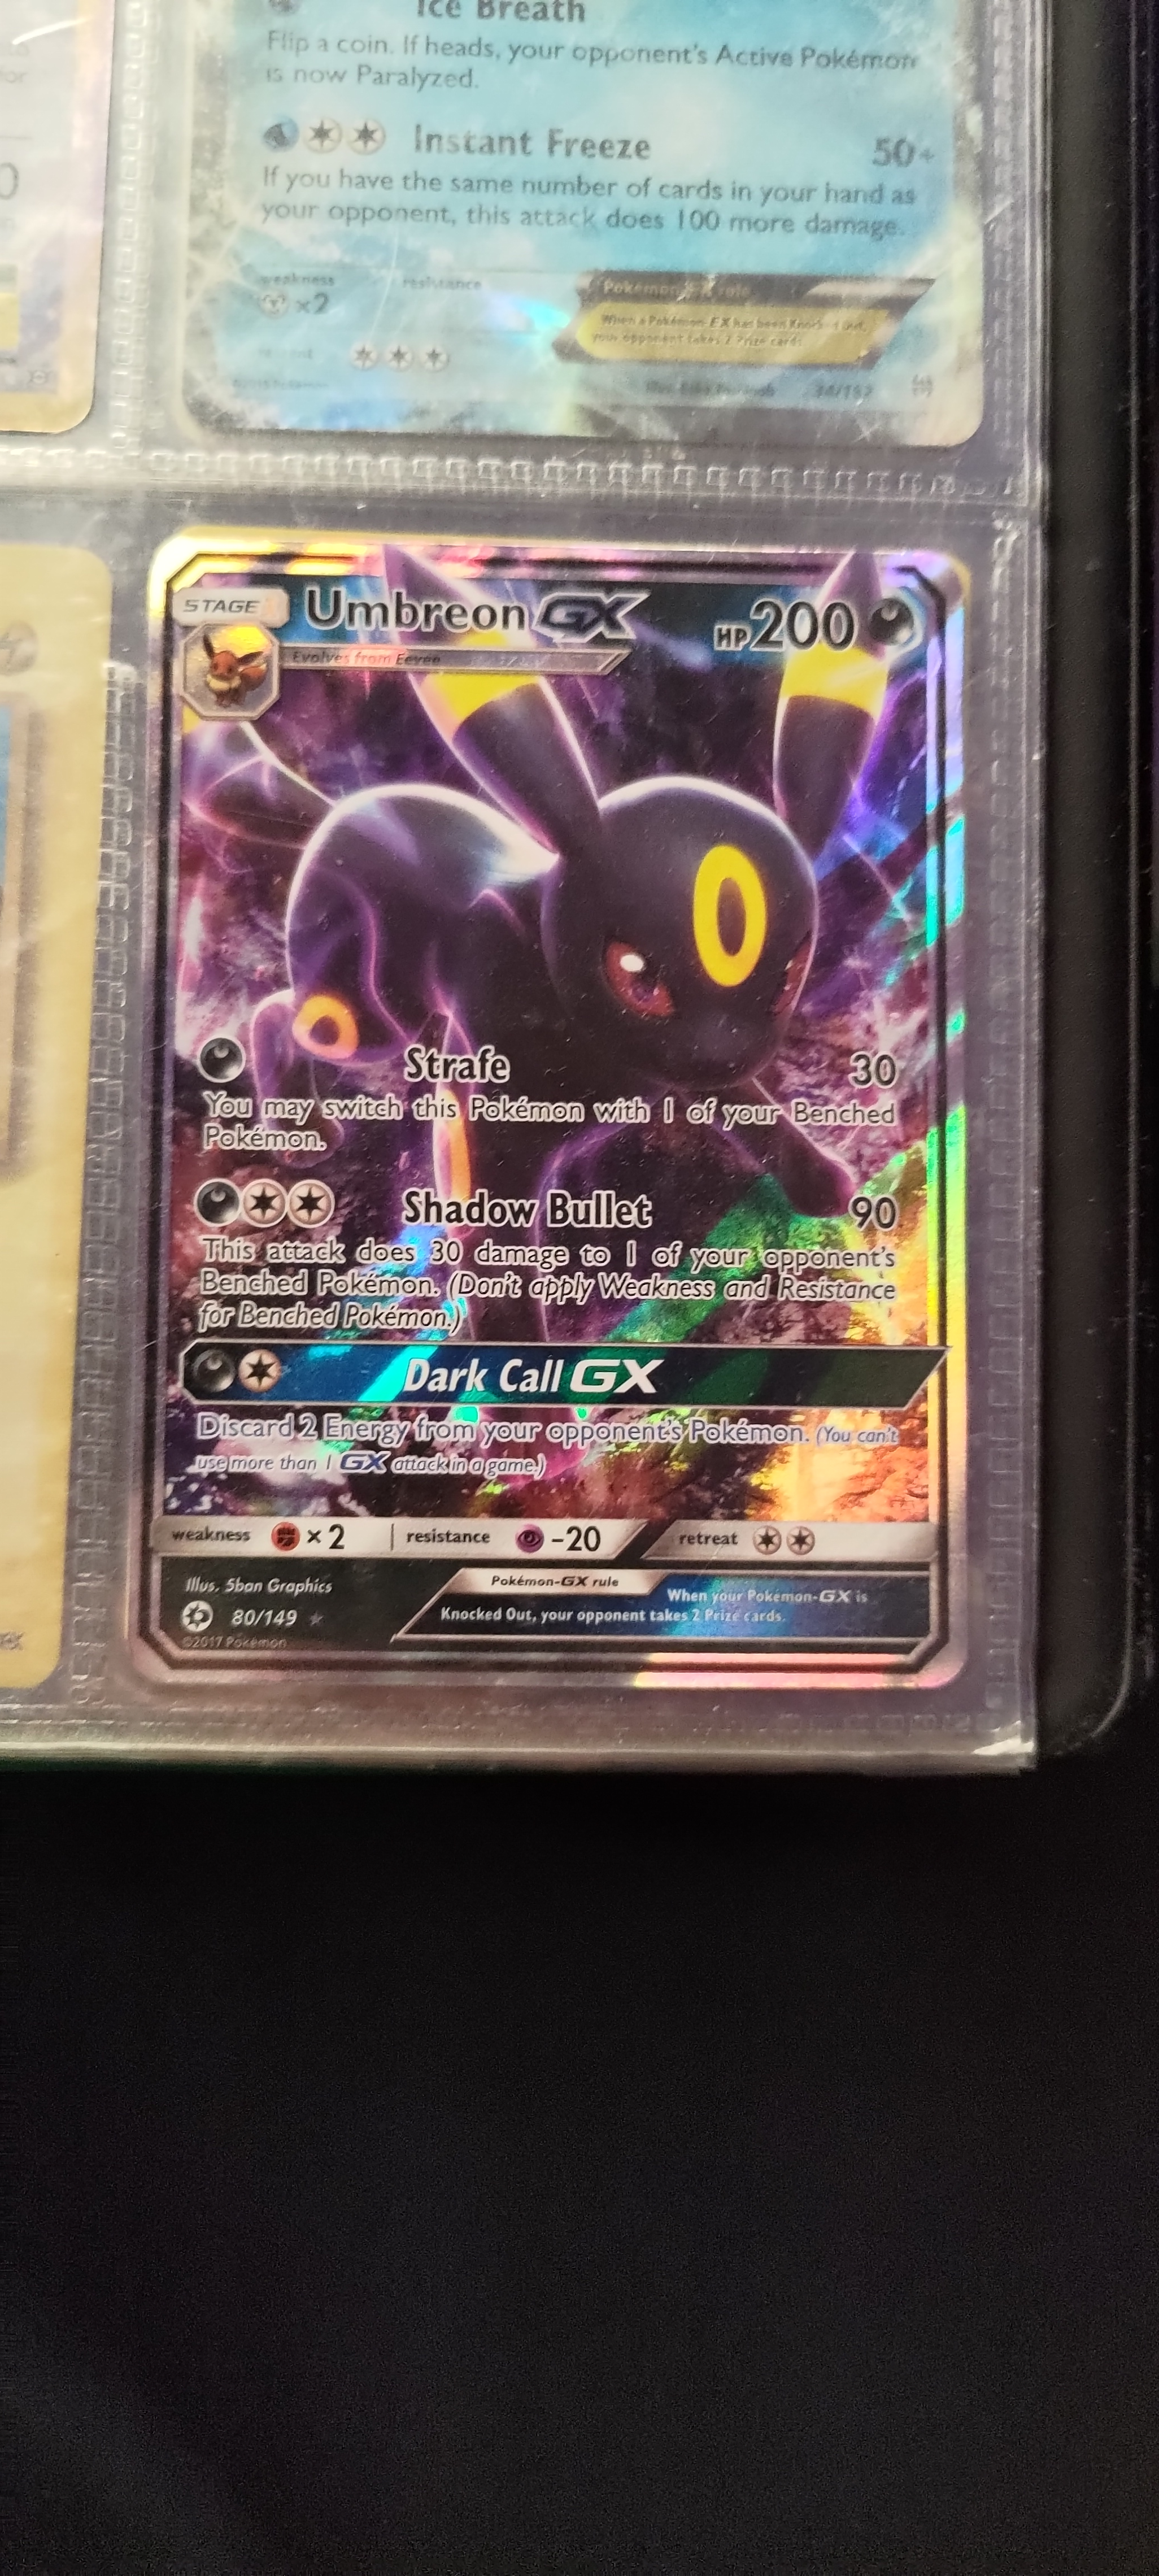pokemon_card: (121, 462, 1005, 1707)
